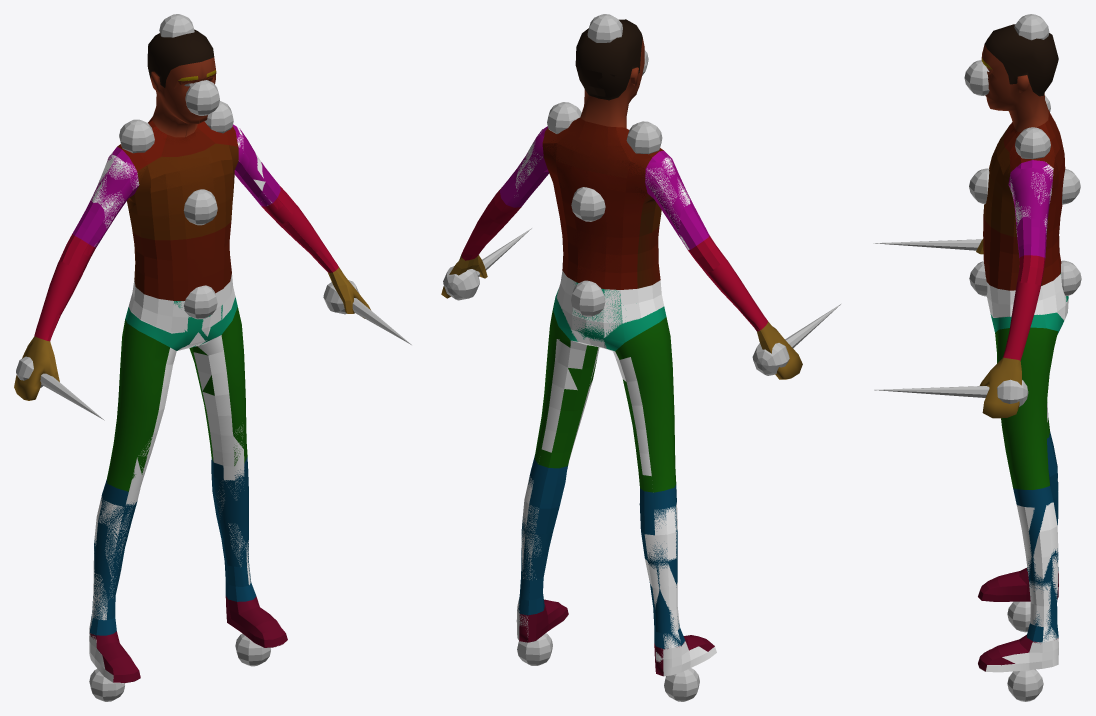
The model's file is Combined-Template.fbx.
3 views of the same model, side by side, from view 1: azimuth 30°, elevation 25°; view 2: azimuth 150°, elevation 25°; view 3: azimuth 270°, elevation 25° (orthographic). The views are drawn at different scales.
Visible parts, largest first — view 1: std_cage_deformable, UpperTorso_OuterCage, YourClothingName_InnerCage, LeftUpperLeg_OuterCage, LowerTorso_OuterCage, RightLowerLeg_OuterCage, RightUpperArm_OuterCage, RightUpperLeg_OuterCage, LeftGrip_Att, FaceFront_Att, RightCollar_Att, BodyFront_Att (+7 smaller); view 2: std_cage_deformable, YourClothingName_InnerCage, UpperTorso_OuterCage, LowerTorso_OuterCage, RightLowerLeg_OuterCage, LeftUpperLeg_OuterCage, RightUpperLeg_OuterCage, RightGrip_Att, LeftGrip_Att, RightFoot_OuterCage, WaistBack_Att, BodyBack_Att (+7 smaller); view 3: std_cage_deformable, UpperTorso_OuterCage, YourClothingName_InnerCage, LeftLowerLeg_OuterCage, LowerTorso_OuterCage, LeftGrip_Att, LeftFoot_OuterCage, LeftFoot_Att, LeftCollar_Att, Hair_Att, RightGrip_Att, FaceFront_Att (+6 smaller).
Boxes of the visible parts, x1=… form: std_cage_deformable: x1=14, y1=29, x2=370, y2=683; UpperTorso_OuterCage: x1=129, y1=116, x2=238, y2=300; YourClothingName_InnerCage: x1=37, y1=68, x2=364, y2=682; LeftUpperLeg_OuterCage: x1=193, y1=335, x2=244, y2=466; LowerTorso_OuterCage: x1=128, y1=274, x2=235, y2=350; RightLowerLeg_OuterCage: x1=89, y1=486, x2=140, y2=633; RightUpperArm_OuterCage: x1=91, y1=152, x2=139, y2=246; RightUpperLeg_OuterCage: x1=129, y1=347, x2=176, y2=491; LeftGrip_Att: x1=323, y1=280, x2=411, y2=344; FaceFront_Att: x1=185, y1=80, x2=219, y2=115; RightCollar_Att: x1=119, y1=119, x2=154, y2=153; BodyFront_Att: x1=183, y1=189, x2=217, y2=225; std_cage_deformable: x1=441, y1=19, x2=802, y2=676; YourClothingName_InnerCage: x1=447, y1=65, x2=771, y2=671; UpperTorso_OuterCage: x1=542, y1=117, x2=661, y2=289; LowerTorso_OuterCage: x1=556, y1=271, x2=663, y2=351; RightLowerLeg_OuterCage: x1=644, y1=502, x2=680, y2=648; LeftUpperLeg_OuterCage: x1=541, y1=339, x2=599, y2=460; RightUpperLeg_OuterCage: x1=613, y1=351, x2=651, y2=476; RightGrip_Att: x1=752, y1=303, x2=841, y2=375; LeftGrip_Att: x1=443, y1=228, x2=531, y2=300; RightFoot_OuterCage: x1=655, y1=641, x2=716, y2=676; WaistBack_Att: x1=571, y1=280, x2=605, y2=316; BodyBack_Att: x1=571, y1=187, x2=605, y2=221; std_cage_deformable: x1=976, y1=24, x2=1068, y2=642; UpperTorso_OuterCage: x1=983, y1=110, x2=1064, y2=290; YourClothingName_InnerCage: x1=976, y1=63, x2=1058, y2=671; LeftLowerLeg_OuterCage: x1=1016, y1=502, x2=1058, y2=642; LowerTorso_OuterCage: x1=986, y1=274, x2=1068, y2=320; LeftGrip_Att: x1=874, y1=379, x2=1028, y2=406; LeftFoot_OuterCage: x1=978, y1=638, x2=1058, y2=672; LeftFoot_Att: x1=1007, y1=669, x2=1043, y2=701; LeftCollar_Att: x1=1015, y1=127, x2=1050, y2=159; Hair_Att: x1=1014, y1=14, x2=1049, y2=40; RightGrip_Att: x1=873, y1=239, x2=982, y2=250; FaceFront_Att: x1=964, y1=60, x2=989, y2=95.
Size of the model in its own units: 3.23 by 5.93 by 1.74.
